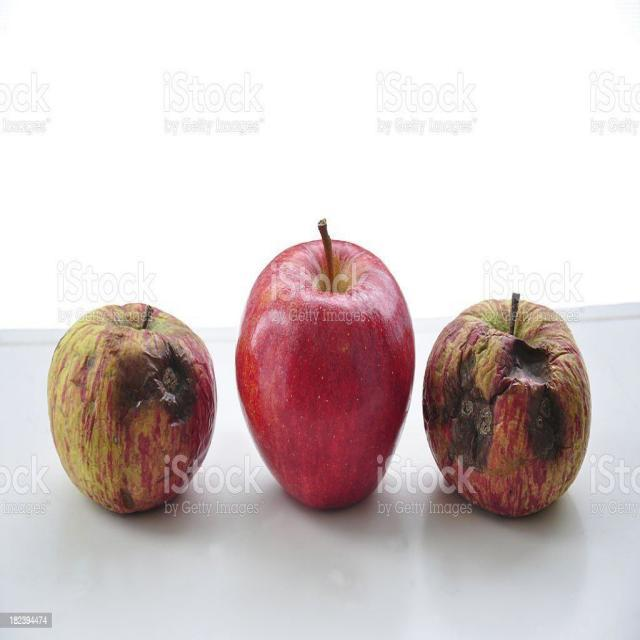Fresh Apple: (227, 247, 418, 508)
Rotten: (38, 304, 215, 518), (422, 290, 585, 515)
